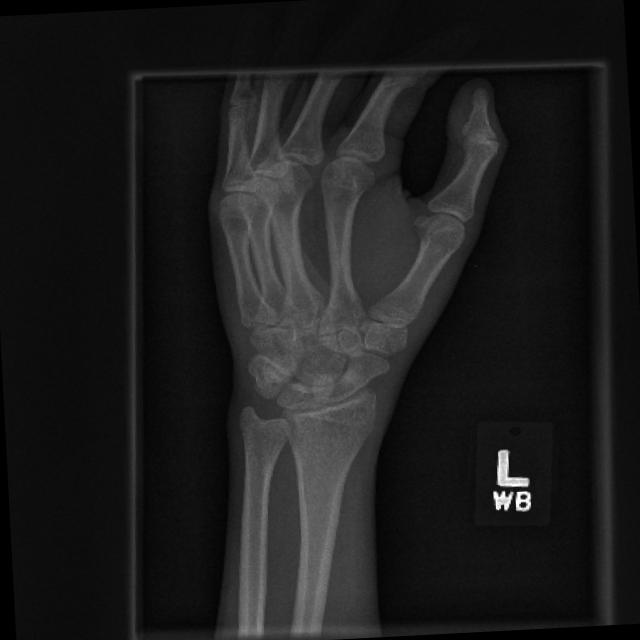wrist positive: (285, 387, 383, 455), (239, 372, 291, 408)
